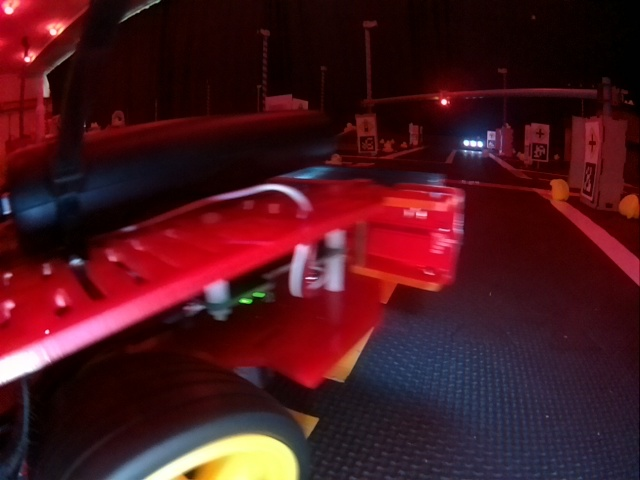Duckie: (619, 195, 639, 219), (550, 179, 569, 201)
Duckiebot: (8, 107, 460, 480)
Intersection sign: (586, 127, 595, 157), (534, 125, 547, 140)
QR code: (581, 165, 596, 198), (359, 137, 376, 152), (532, 143, 547, 160)
Signal sign: (358, 118, 375, 135)
